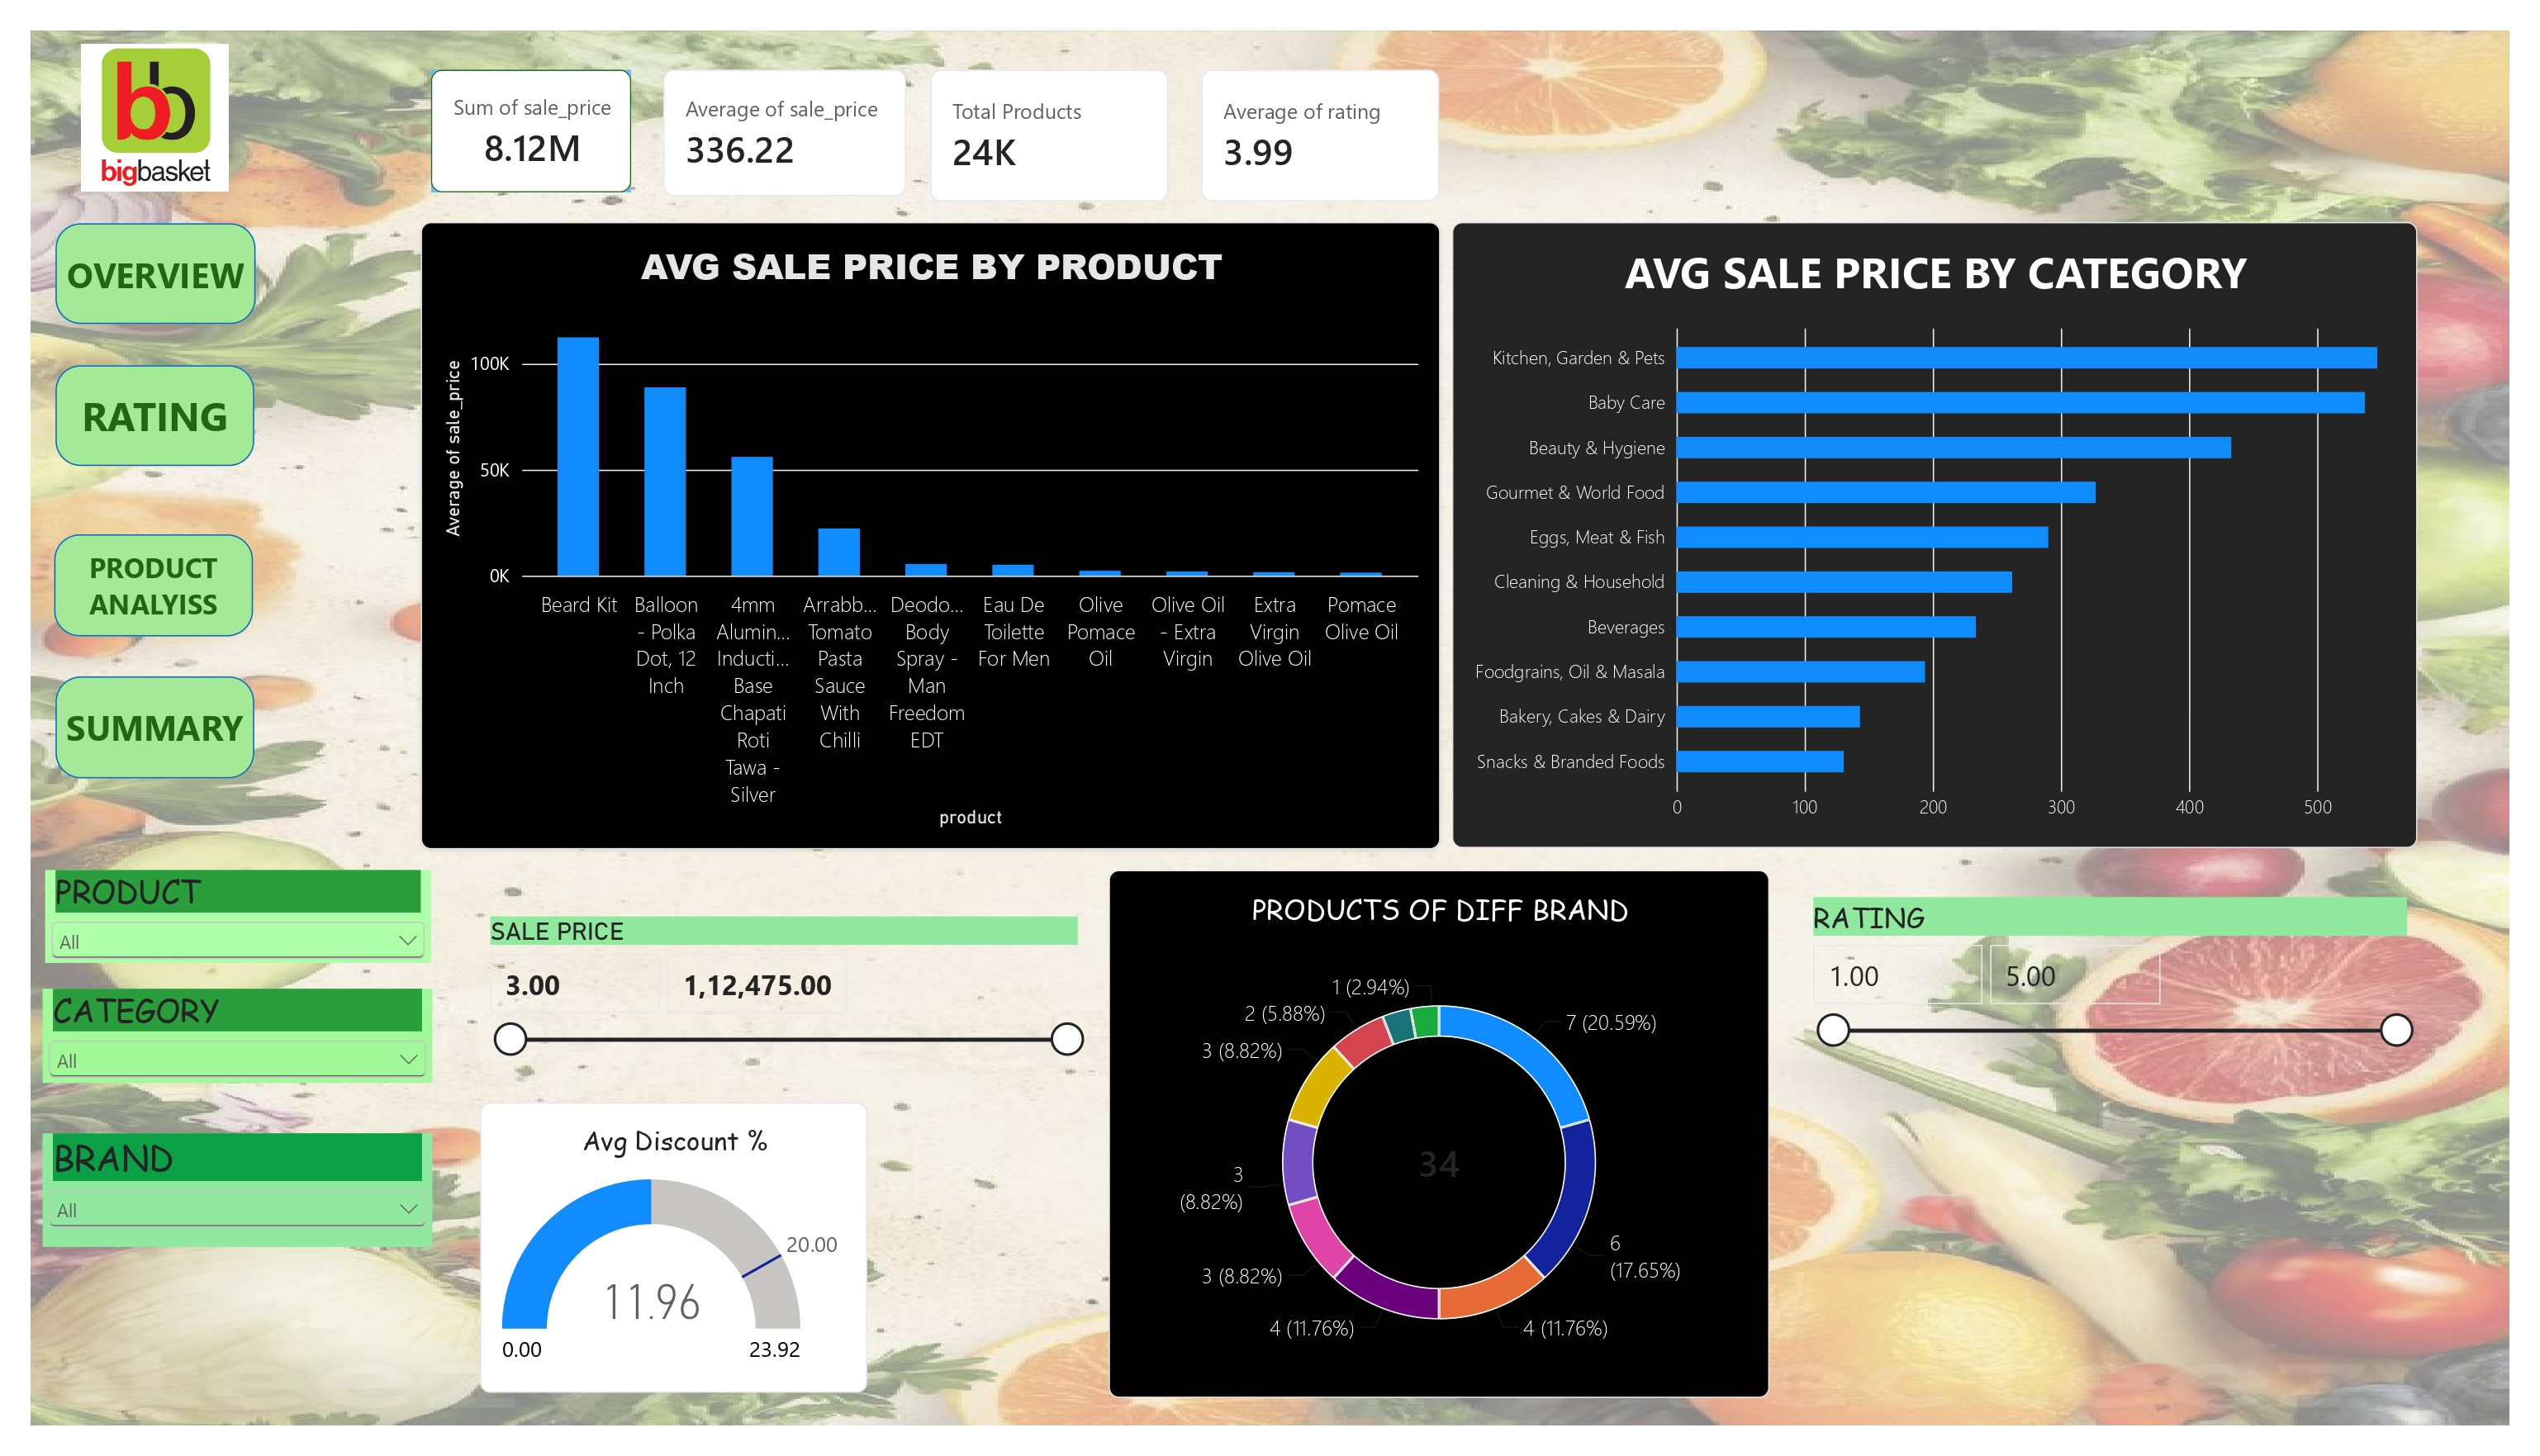

The dashboard page shown, as its layout file describes it:
{"tool":"powerbi","page":{"name":"OVERVIEW","canvas":[1920,1080],"ordinal":0},"visuals":[{"type":"image","box":[0,0,1919.8,1080],"z":0},{"type":"shape","box":[19.1,148.8,155.2,78.7],"z":1000},{"type":"shape","box":[18.6,258.6,154.3,78.6],"z":2000},{"type":"shape","box":[17.5,390,154.3,78.6],"z":3000},{"type":"shape","box":[18.6,500,154.3,78.6],"z":4000},{"type":"image","box":[8.6,10,174.3,114.3],"z":5000},{"type":"cardVisual","fields":{"Data":["Sum(Sheet1.sale_price)"]},"box":[310.4,29.8,155.7,95.7],"z":6000},{"type":"lineClusteredColumnComboChart","title":"  AVG SALE PRICE BY PRODUCT","fields":{"Category":["Sheet1.product"],"Y":["Avg(Sheet1.sale_price)"]},"box":[302,148,790,486],"z":7000},{"type":"slicer","fields":{"Values":["Sheet1.product"]},"box":[10.7,650,299.8,72.3],"z":8000},{"type":"clusteredBarChart","title":" AVG SALE PRICE BY CATEGORY  ","fields":{"Category":["Sheet1.category"],"Y":["Avg(Sheet1.sale_price)"]},"box":[1100.5,148,748.7,484.8],"z":9000},{"type":"slicer","fields":{"Values":["Sheet1.category"]},"box":[8.6,742.3,302.5,72.9],"z":10000},{"type":"cardVisual","fields":{"Data":["Avg(Sheet1.sale_price)"]},"box":[490,30,188,98],"z":11000},{"type":"cardVisual","fields":{"Data":["Sheet1.Total Products"]},"box":[697.2,30,185,102],"z":12000},{"type":"cardVisual","fields":{"Data":["Avg(Sheet1.rating)"]},"box":[907.4,30,184.5,103],"z":13000},{"type":"donutChart","title":"PRODUCTS OF DIFF BRAND ","fields":{"Category":["Sheet1.brand"],"Y":["Sheet1.Total Products"]},"box":[834.6,649.7,512.4,409.4],"z":14000},{"type":"slicer","fields":{"Values":["Sheet1.brand"]},"box":[8.6,853.8,302.5,88],"z":15000},{"type":"slicer","fields":{"Values":["Sheet1.sale_price"]},"box":[347.5,686.5,472,143.7],"z":16000},{"type":"slicer","fields":{"Values":["Sheet1.rating"]},"box":[1373,671.5,476.2,143.7],"z":17000},{"type":"gauge","fields":{"Y":["Sheet1.Avg Discount %"]},"box":[347.5,830.2,300.3,225.3],"z":18000}]}

Visuals, with their boxes on the page's 1920x1080 design canvas (x1, y1, x2, y2). These are canvas units, not pixel positions in the 2540x1456 screenshot, which may show the page scaled, cropped or inside an application window:
image: (0,0,1920,1080)
shape: (19,149,174,228)
shape: (19,259,173,337)
shape: (18,390,172,469)
shape: (19,500,173,579)
image: (9,10,183,124)
cardVisual - Sum(Sheet1.sale_price): (310,30,466,126)
"  AVG SALE PRICE BY PRODUCT" lineClusteredColumnComboChart: (302,148,1092,634)
slicer - Sheet1.product: (11,650,310,722)
" AVG SALE PRICE BY CATEGORY  " clusteredBarChart: (1100,148,1849,633)
slicer - Sheet1.category: (9,742,311,815)
cardVisual - Avg(Sheet1.sale_price): (490,30,678,128)
cardVisual - Sheet1.Total Products: (697,30,882,132)
cardVisual - Avg(Sheet1.rating): (907,30,1092,133)
"PRODUCTS OF DIFF BRAND " donutChart: (835,650,1347,1059)
slicer - Sheet1.brand: (9,854,311,942)
slicer - Sheet1.sale_price: (348,686,820,830)
slicer - Sheet1.rating: (1373,672,1849,815)
gauge - Sheet1.Avg Discount %: (348,830,648,1056)
